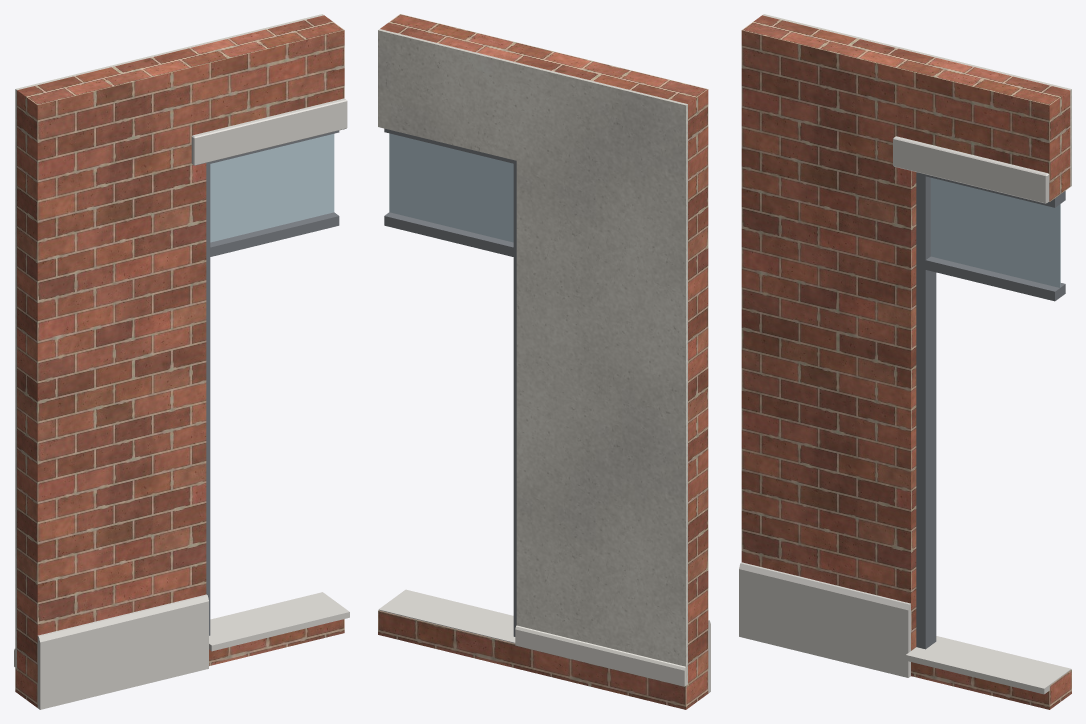
Rendered from pg_door_l.glb.
3 views of the same model, side by side, from view 1: azimuth 30°, elevation 25°; view 2: azimuth 150°, elevation 25°; view 3: azimuth 330°, elevation 25° (orthographic).
Visible parts, largest first — view 1: pg_door_l_brick, pg_door_l_cill, pg_door_l_glass, pg_door_l_frame, pg_door_l_plaster; view 2: pg_door_l_plaster, pg_door_l_brick, pg_door_l_glass, pg_door_l_frame, pg_door_l_cill, pg_door_l_trim; view 3: pg_door_l_brick, pg_door_l_cill, pg_door_l_frame, pg_door_l_glass, pg_door_l_plaster.
Boxes of the visible parts, x1,y1,x2,y2 form: pg_door_l_brick: (15, 15, 344, 707); pg_door_l_cill: (37, 98, 349, 709); pg_door_l_glass: (210, 134, 334, 242); pg_door_l_frame: (206, 130, 339, 635); pg_door_l_plaster: (15, 14, 323, 668); pg_door_l_plaster: (378, 29, 687, 685); pg_door_l_brick: (378, 14, 708, 709); pg_door_l_glass: (389, 133, 513, 242); pg_door_l_frame: (384, 128, 516, 636); pg_door_l_cill: (378, 589, 710, 693); pg_door_l_trim: (515, 625, 685, 686); pg_door_l_brick: (741, 15, 1071, 709); pg_door_l_cill: (739, 136, 1071, 694); pg_door_l_frame: (916, 172, 1065, 649); pg_door_l_glass: (930, 177, 1060, 287); pg_door_l_plaster: (762, 14, 1071, 186).
Size of the model in its own units: 2 by 3.75 by 0.326.
Materials: 6 (2 with a texture image).
